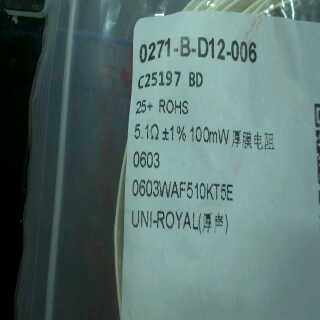5.1R: (132, 118, 162, 149)
